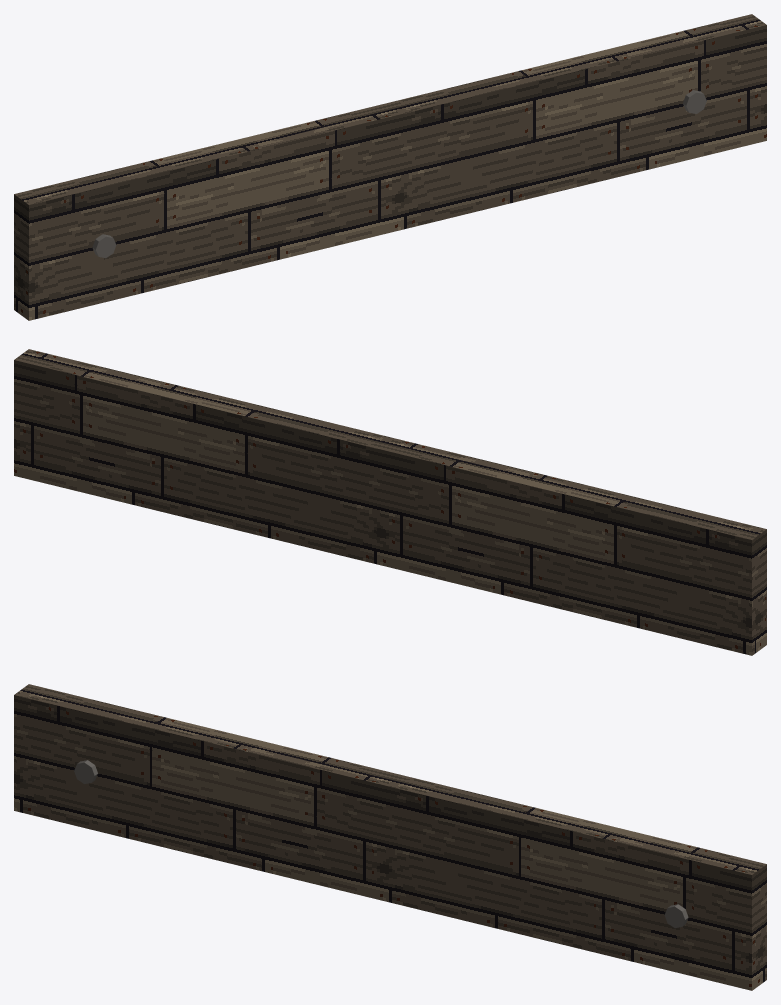
File: PRP_Plank_1.0.glb
3 renders of one model, top to bottom at view 1: azimuth 30°, elevation 25°; view 2: azimuth 150°, elevation 25°; view 3: azimuth 330°, elevation 25°, orthographic.
Visible parts, largest first — view 1: Plank; view 2: Plank; view 3: Plank.
Part boxes in pixels (box(x1,y1,x2,y2)): Plank: box(14, 14, 766, 320); Plank: box(14, 349, 766, 655); Plank: box(14, 684, 766, 990).
Size of the model in its own units: 1 by 0.15 by 0.043.
Materials: 2 (1 with a texture image).
